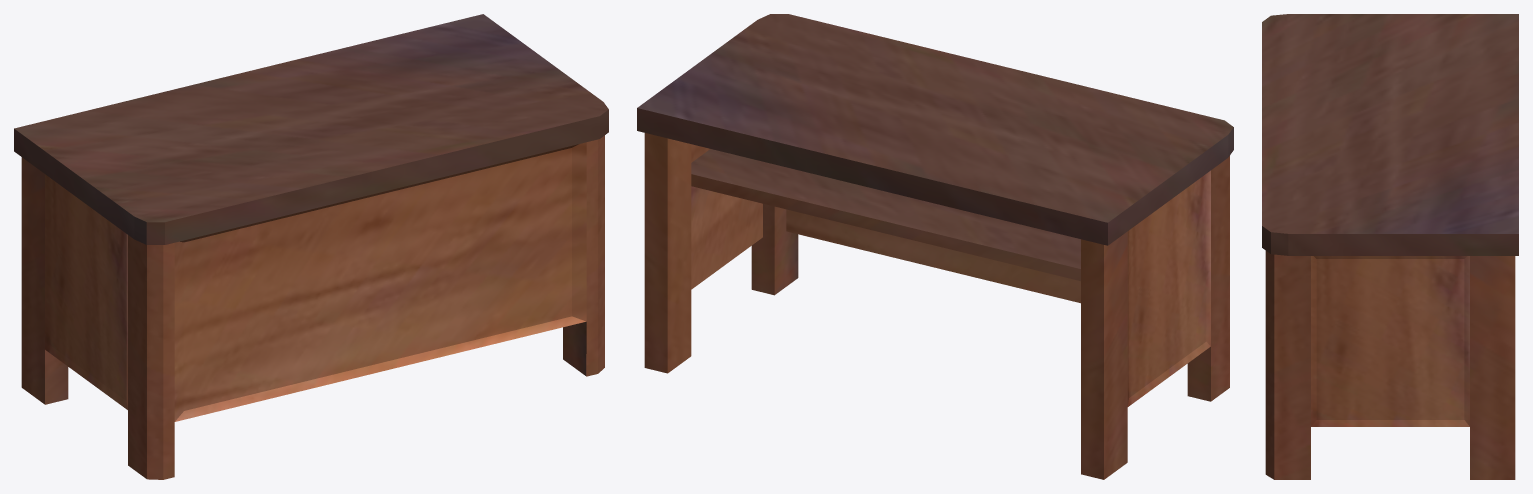
The model's file is teacher table.fbx.
The picture shows the model from 3 angles, left to right: view 1: azimuth 30°, elevation 25°; view 2: azimuth 150°, elevation 25°; view 3: azimuth 270°, elevation 25°; orthographic projection. The views are drawn at different scales.
Visible parts, largest first — view 1: table; view 2: table; view 3: table.
Boxes of the visible parts, <box> form: table: <box>14,14,608,479</box>; table: <box>637,14,1233,479</box>; table: <box>1262,14,1518,479</box>.
Size of the model in its own units: 566 by 299 by 279.
